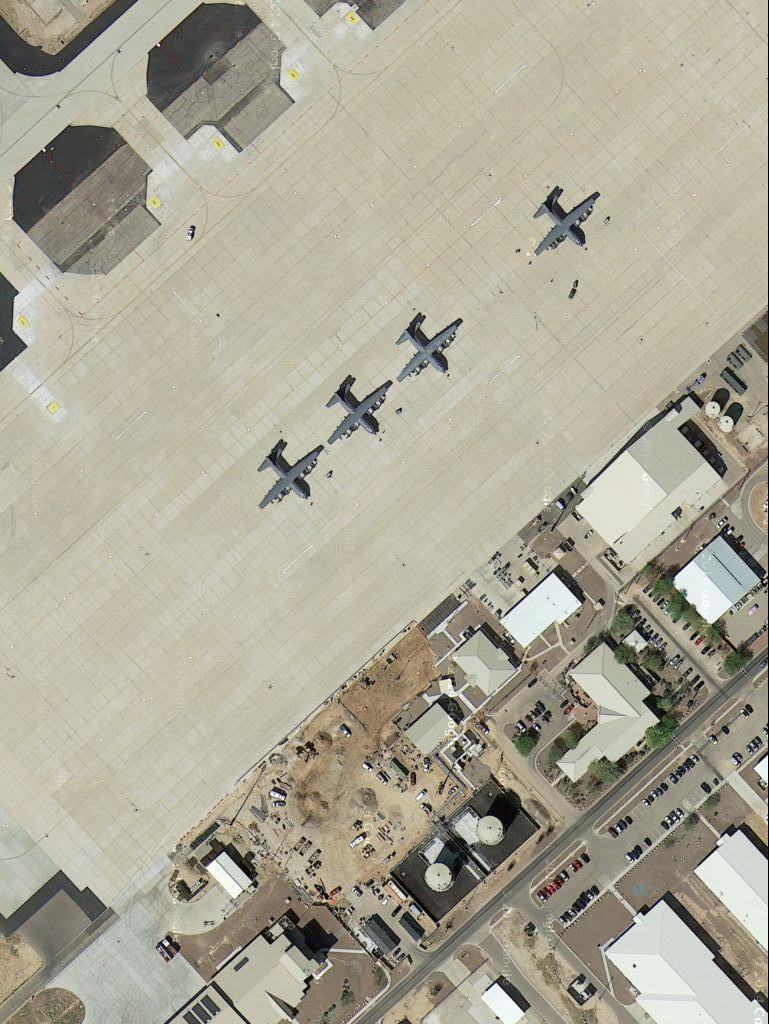C-130: (322, 371, 395, 448), (530, 188, 603, 260), (390, 311, 462, 384), (252, 440, 325, 511)
